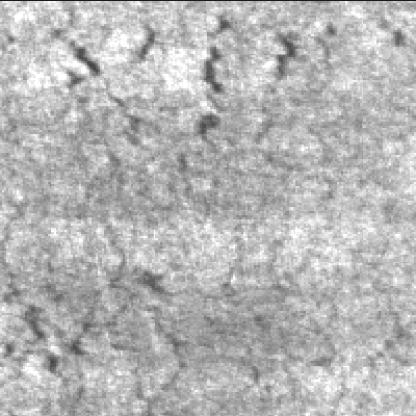crazing: (9, 17, 192, 395), (199, 14, 340, 372)
